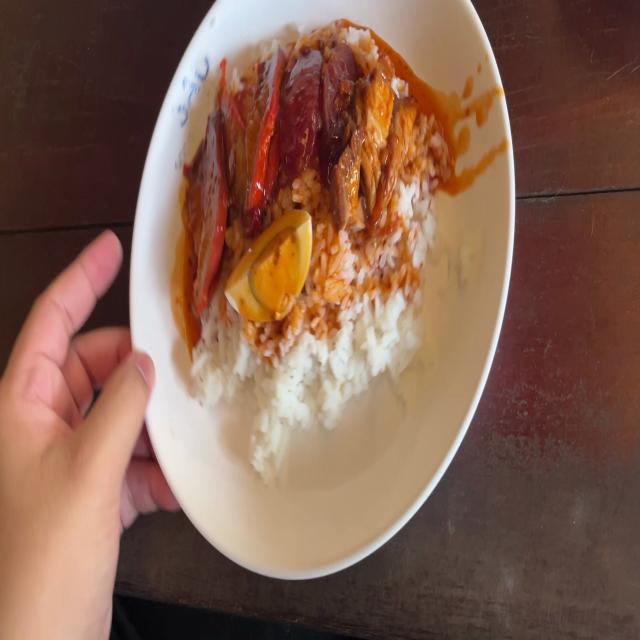red_pork_and_crispy_pork: (225, 207, 310, 317)
stir_fried_basil: (284, 38, 355, 164)
